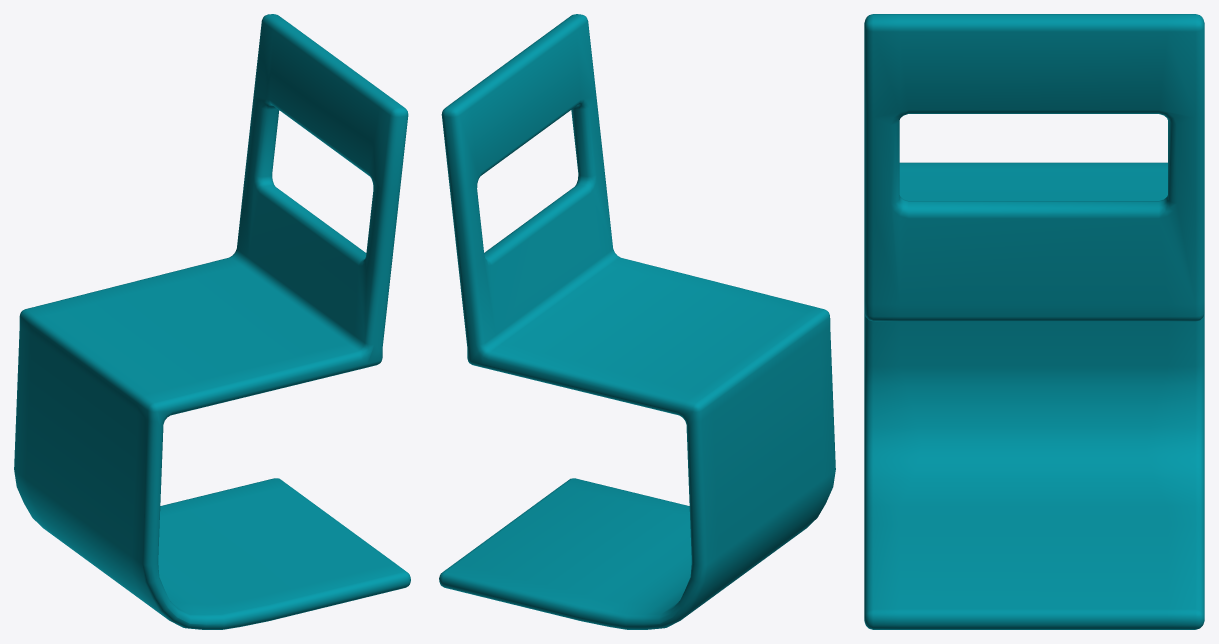
The model's file is Modern Chair02.fbx.
3 renders of one model, left to right at view 1: azimuth 30°, elevation 25°; view 2: azimuth 150°, elevation 25°; view 3: azimuth 270°, elevation 25°, orthographic. The views are drawn at different scales.
Visible parts, largest first — view 1: Modern Chair02; view 2: Modern Chair02; view 3: Modern Chair02.
Boxes of the visible parts, x1=… form: Modern Chair02: x1=14, y1=14, x2=410, y2=629; Modern Chair02: x1=439, y1=14, x2=835, y2=629; Modern Chair02: x1=864, y1=14, x2=1204, y2=629.
Bounding box in the file's own units: 0.3454 × 0.3 × 0.593.
